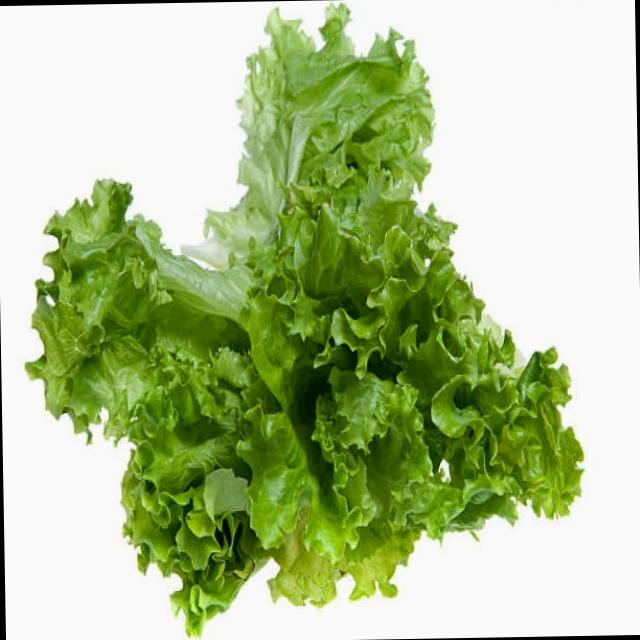Lettuce-Ready-to-Harvest: (23, 4, 584, 639)
